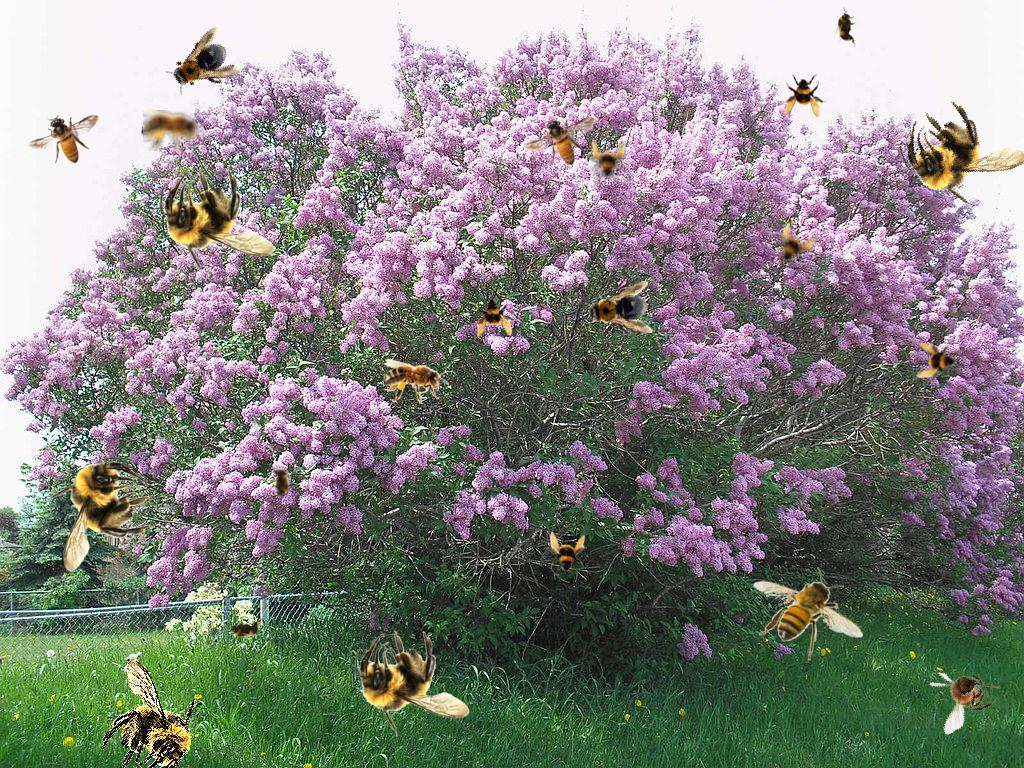Bee: (888, 80, 1024, 227), (69, 642, 226, 768), (160, 168, 275, 275), (355, 630, 470, 737), (45, 457, 152, 572), (753, 567, 864, 661), (919, 650, 1010, 736), (158, 25, 244, 107), (580, 280, 656, 342), (761, 216, 821, 276), (28, 114, 99, 164), (524, 116, 595, 166), (141, 108, 207, 153), (383, 359, 449, 404), (470, 291, 520, 341), (543, 532, 587, 576), (783, 74, 827, 118), (584, 139, 628, 183), (916, 341, 960, 385), (834, 6, 858, 48), (270, 463, 292, 503), (225, 618, 265, 640)
